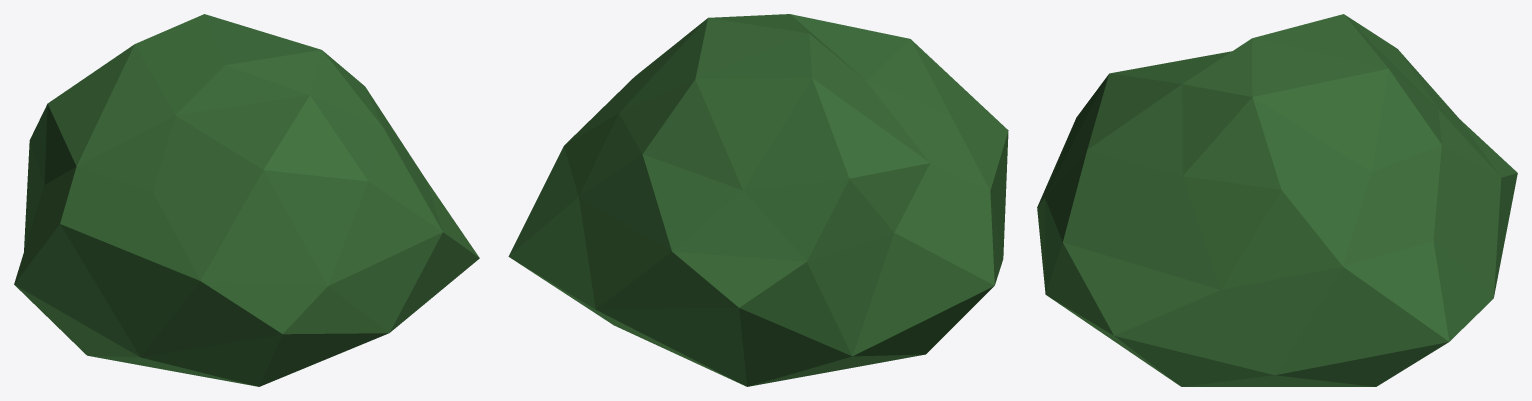
The model's file is bush_04.glb.
3 views of the same model, side by side, from view 1: azimuth 30°, elevation 25°; view 2: azimuth 150°, elevation 25°; view 3: azimuth 270°, elevation 25° (orthographic). The views are drawn at different scales.
Parts seen in each view (by area): view 1: Object_76; view 2: Object_76; view 3: Object_76.
Part boxes in pixels (bbox=[...]): Object_76: bbox=[14, 14, 479, 386]; Object_76: bbox=[508, 14, 1008, 386]; Object_76: bbox=[1037, 14, 1517, 386].
Size of the model in its own units: 2.64 by 1.64 by 2.52.
